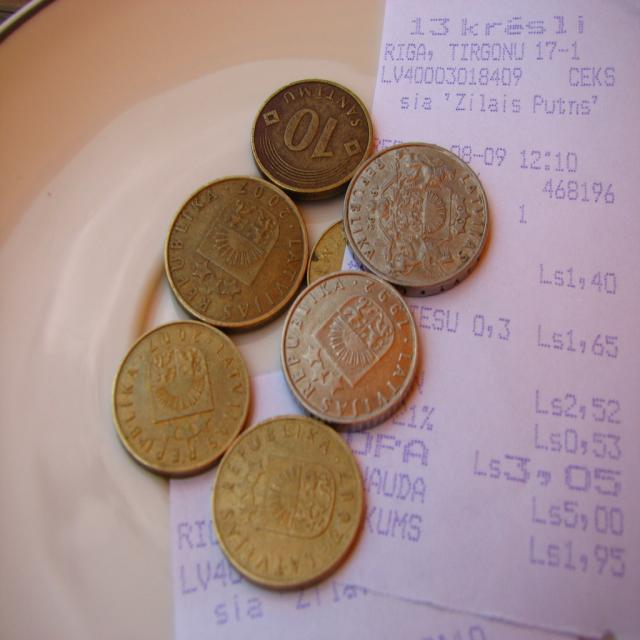Coin: (213, 411, 368, 593), (108, 315, 254, 480), (278, 268, 424, 433), (341, 141, 496, 292), (162, 174, 309, 329), (249, 79, 374, 200), (306, 218, 360, 283)
